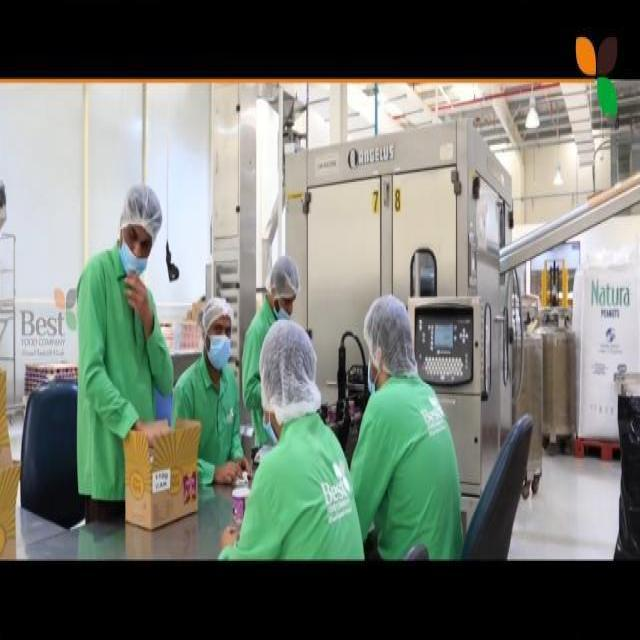bare_hand: (123, 268, 156, 327), (137, 414, 178, 460), (216, 446, 242, 495)
